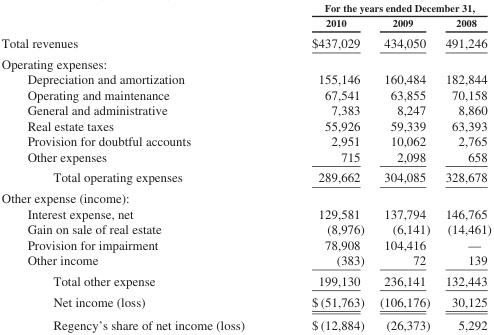table: (0, 1, 490, 331)
table column: (0, 1, 277, 331), (277, 1, 371, 331), (371, 1, 437, 331), (437, 1, 490, 331)
table column header: (0, 1, 490, 32)
table projected row header: (0, 53, 490, 71), (0, 187, 490, 205)
table row: (0, 290, 490, 312), (0, 32, 490, 53), (0, 166, 490, 187), (0, 270, 490, 290), (0, 312, 490, 331), (0, 53, 490, 71), (0, 148, 490, 166), (0, 187, 490, 205), (0, 252, 490, 270), (0, 15, 490, 32), (0, 86, 490, 102), (0, 117, 490, 133), (0, 205, 490, 221), (0, 236, 490, 252), (0, 71, 490, 86), (0, 102, 490, 117), (0, 133, 490, 148), (0, 221, 490, 236), (0, 1, 490, 15)
table spanning cell: (277, 1, 490, 15)
